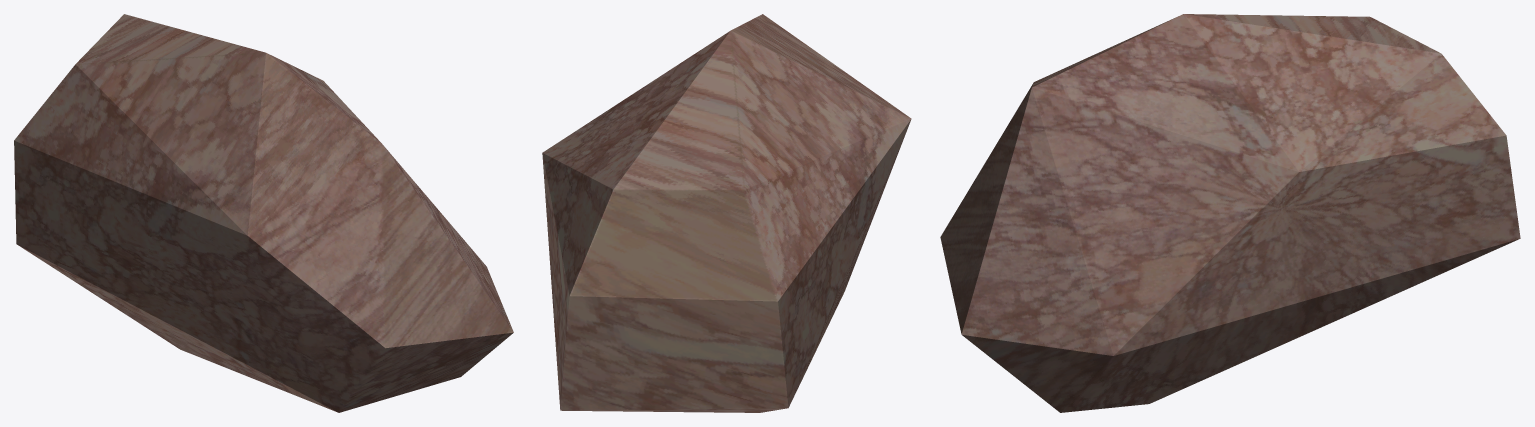
The model's file is Pedrolo1.fbx.
3 views of the same model, side by side, from view 1: azimuth 30°, elevation 25°; view 2: azimuth 150°, elevation 25°; view 3: azimuth 270°, elevation 25° (orthographic). The views are drawn at different scales.
Visible parts, largest first — view 1: root; view 2: root; view 3: root.
Boxes of the visible parts, left/top/right/bottom form: root: left=14, top=14, right=513, bottom=412; root: left=542, top=14, right=911, bottom=412; root: left=940, top=14, right=1520, bottom=412.
Size of the model in its own units: 0.5427 by 0.513 by 0.7705.
Materials: 1 (1 with a texture image).
